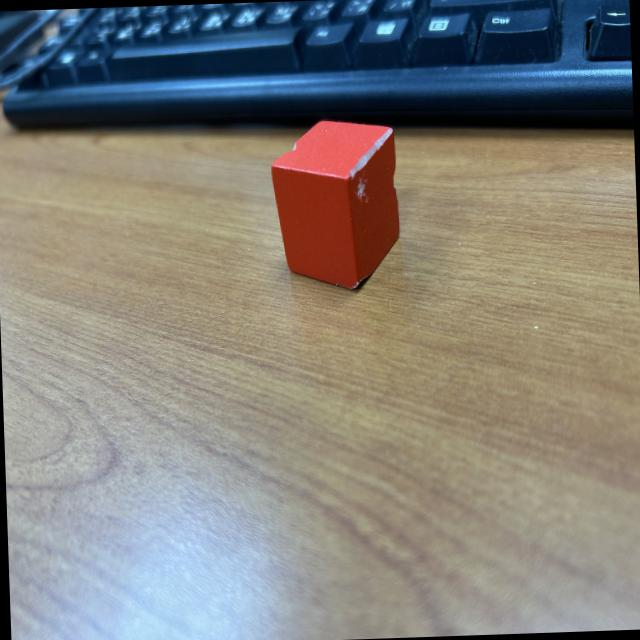broken: (267, 116, 403, 293)
